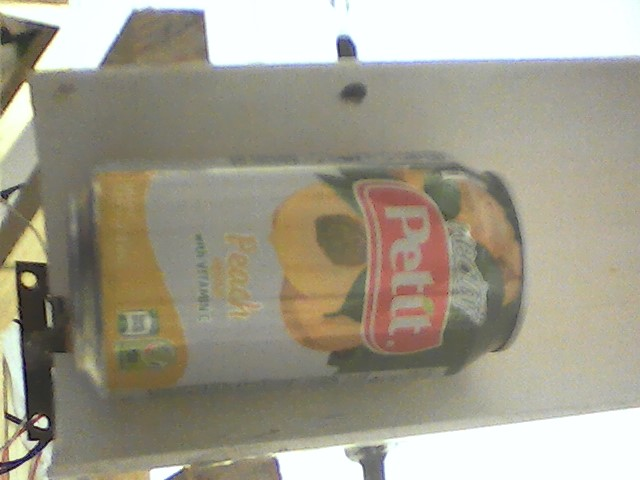lata: (56, 148, 541, 397)
